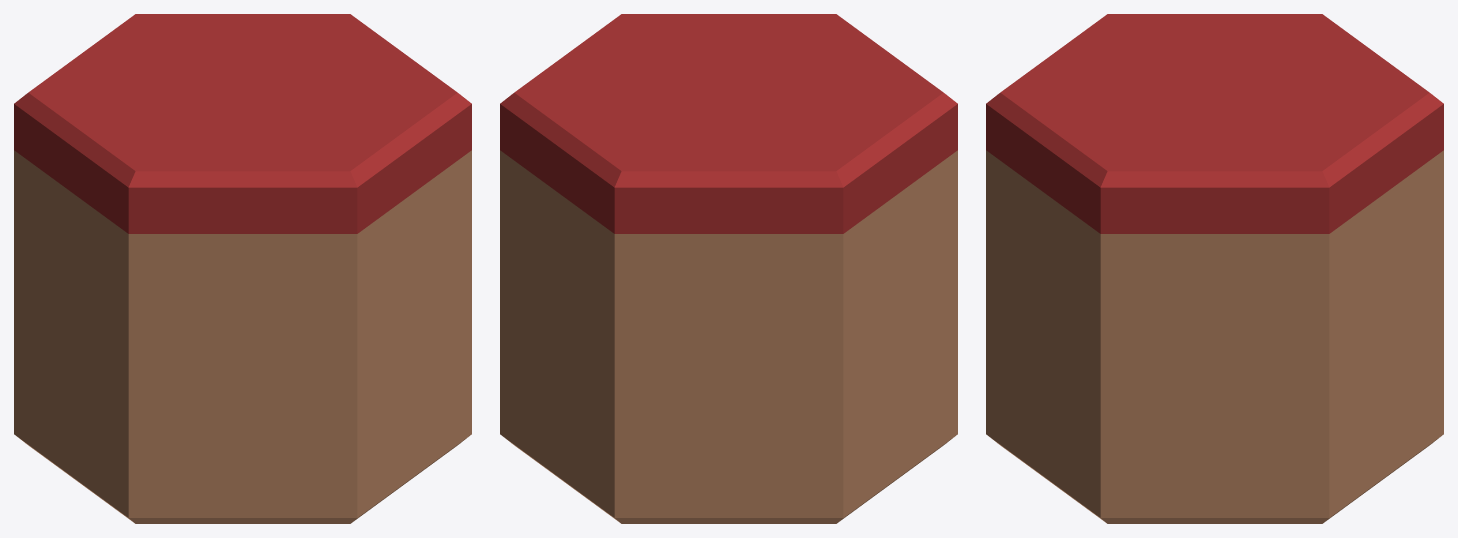
Rendered from Item3.fbx.
The picture shows the model from 3 angles, left to right: view 1: azimuth 30°, elevation 25°; view 2: azimuth 150°, elevation 25°; view 3: azimuth 270°, elevation 25°; orthographic projection.
Visible parts, largest first — view 1: Item5; view 2: Item5; view 3: Item5.
Part boxes in pixels (x1,y1,x2,y2): Item5: (14,14,471,523); Item5: (500,14,957,523); Item5: (986,14,1443,523).
Bounding box in the file's own units: 156 × 153 × 180.
